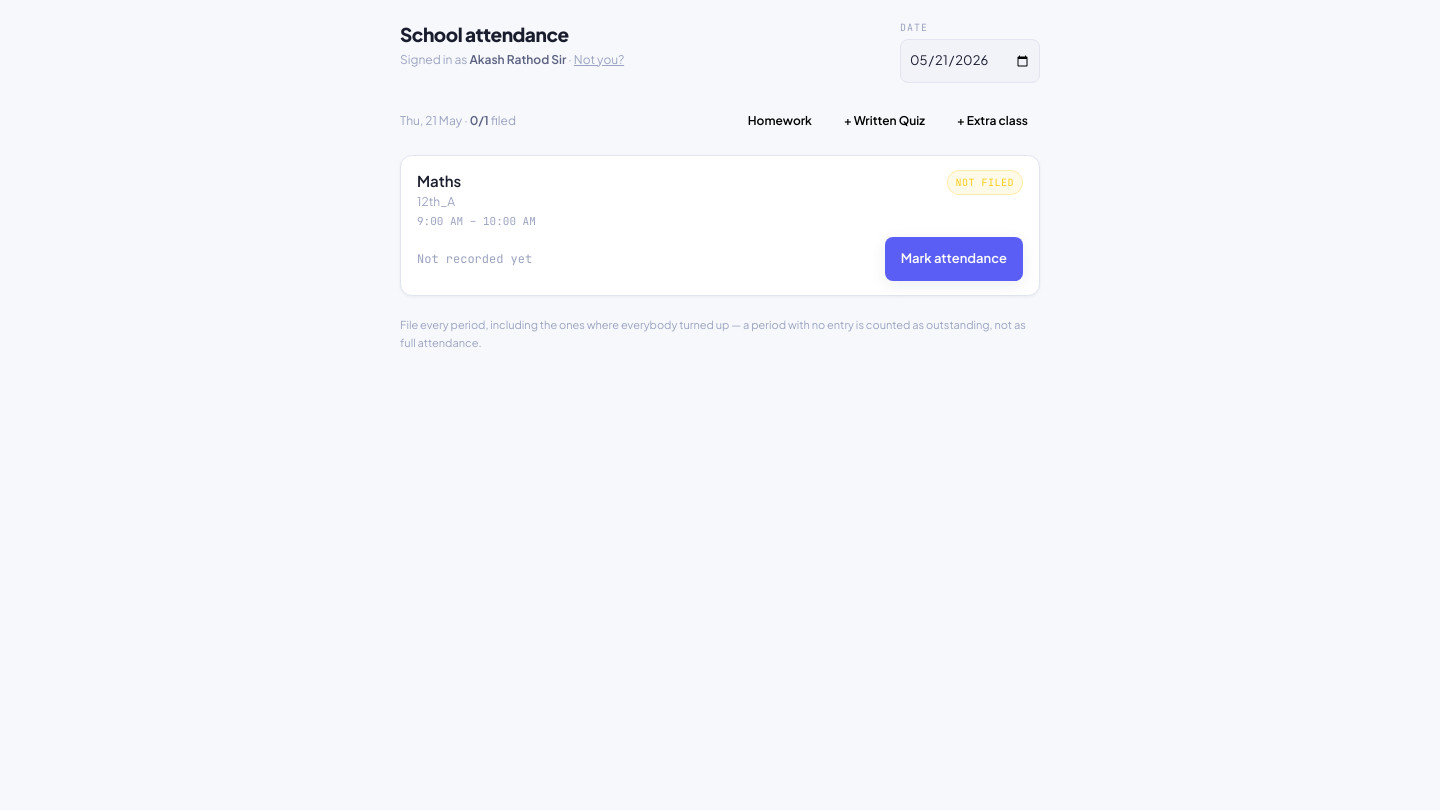
Test case: SchoolAttendancePage — extra (impromptu) classes › adds an extra-class card for a batch the teacher actually teaches
Click the button with aria-label "add an extra class". click: (992, 121)
box: top-left (945, 99), bottom-right (1040, 143)
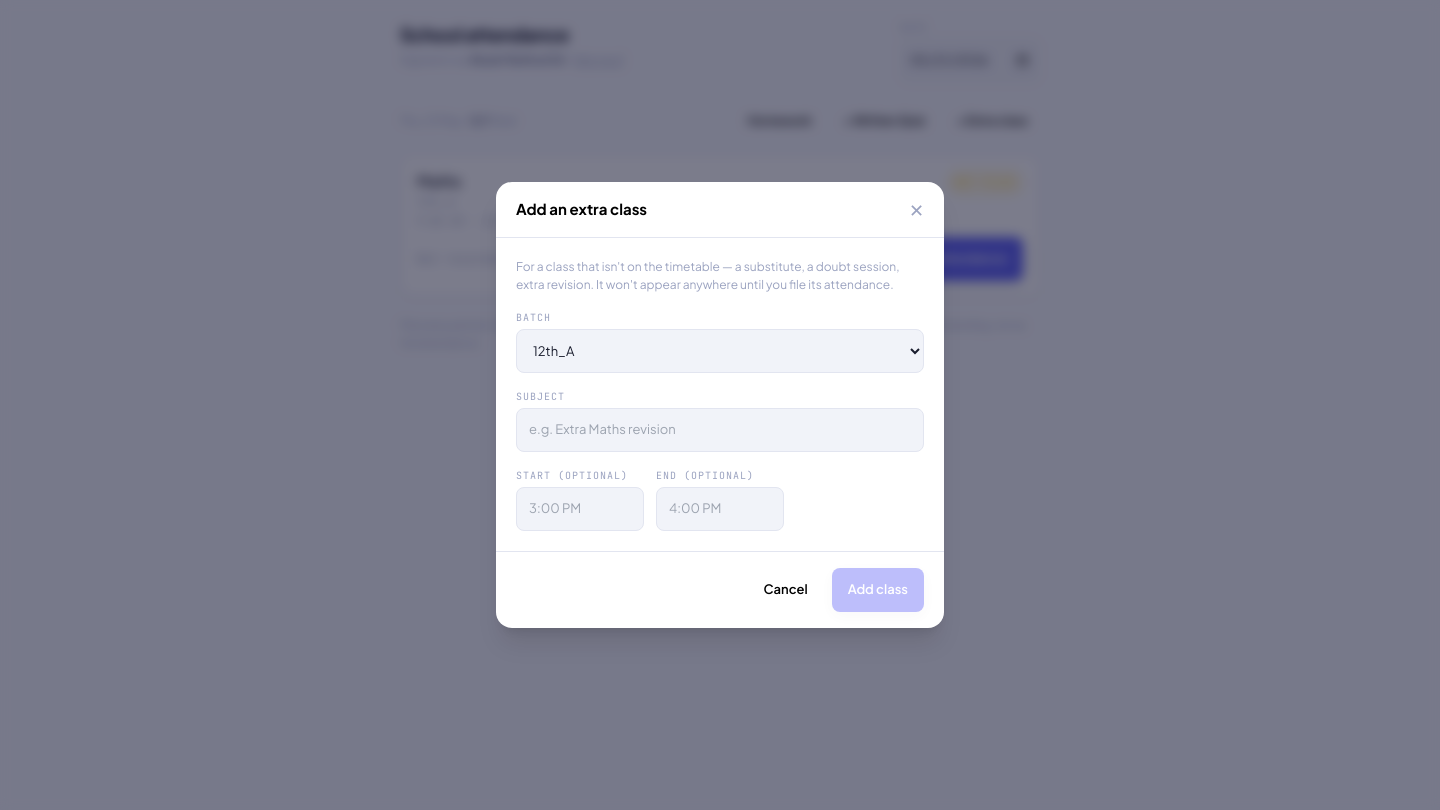
Type "Doubt session" into the field labelled "Subject". click: (720, 430)
box: top-left (516, 408), bottom-right (924, 452)
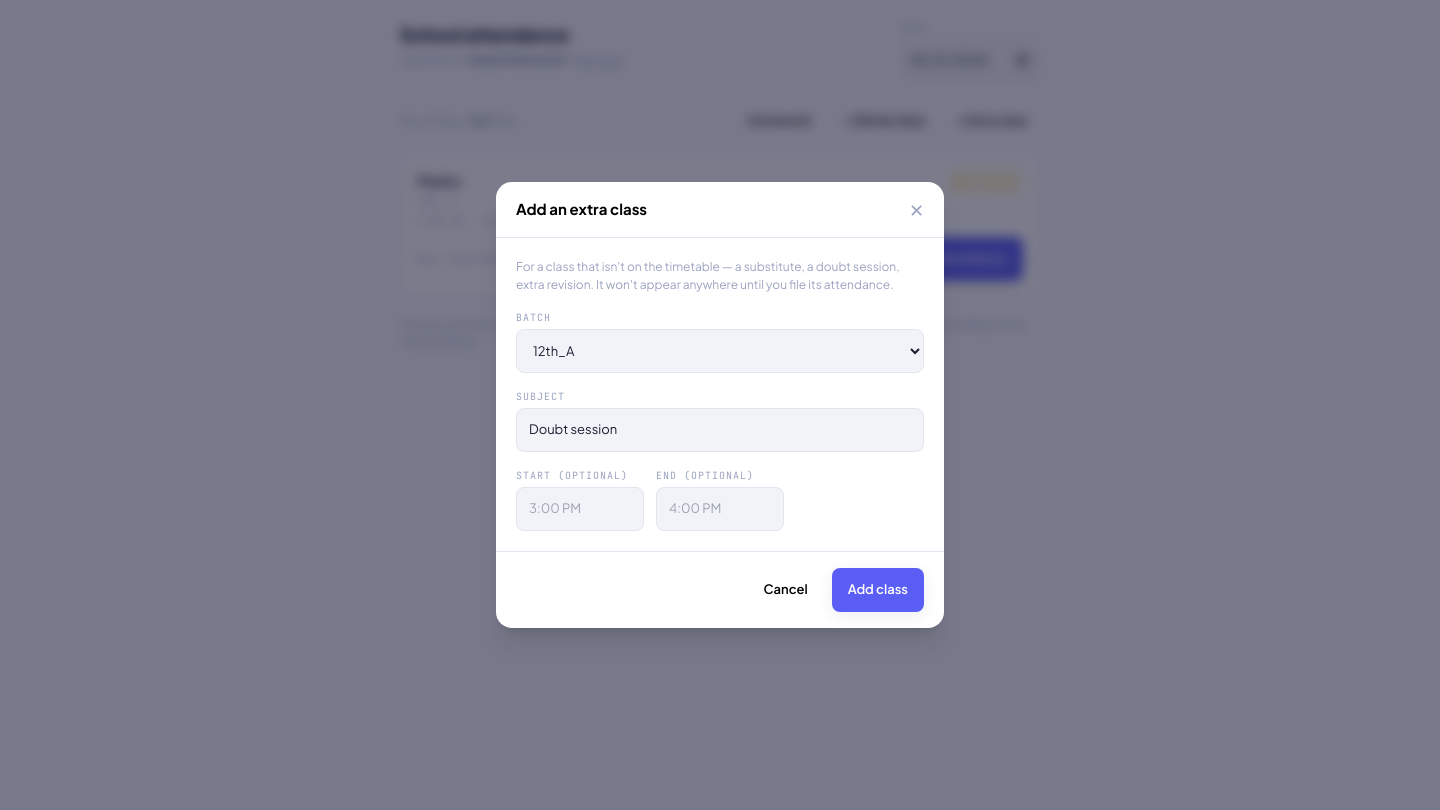
Click the button "Add class". click: (878, 590)
box: top-left (832, 568), bottom-right (924, 612)
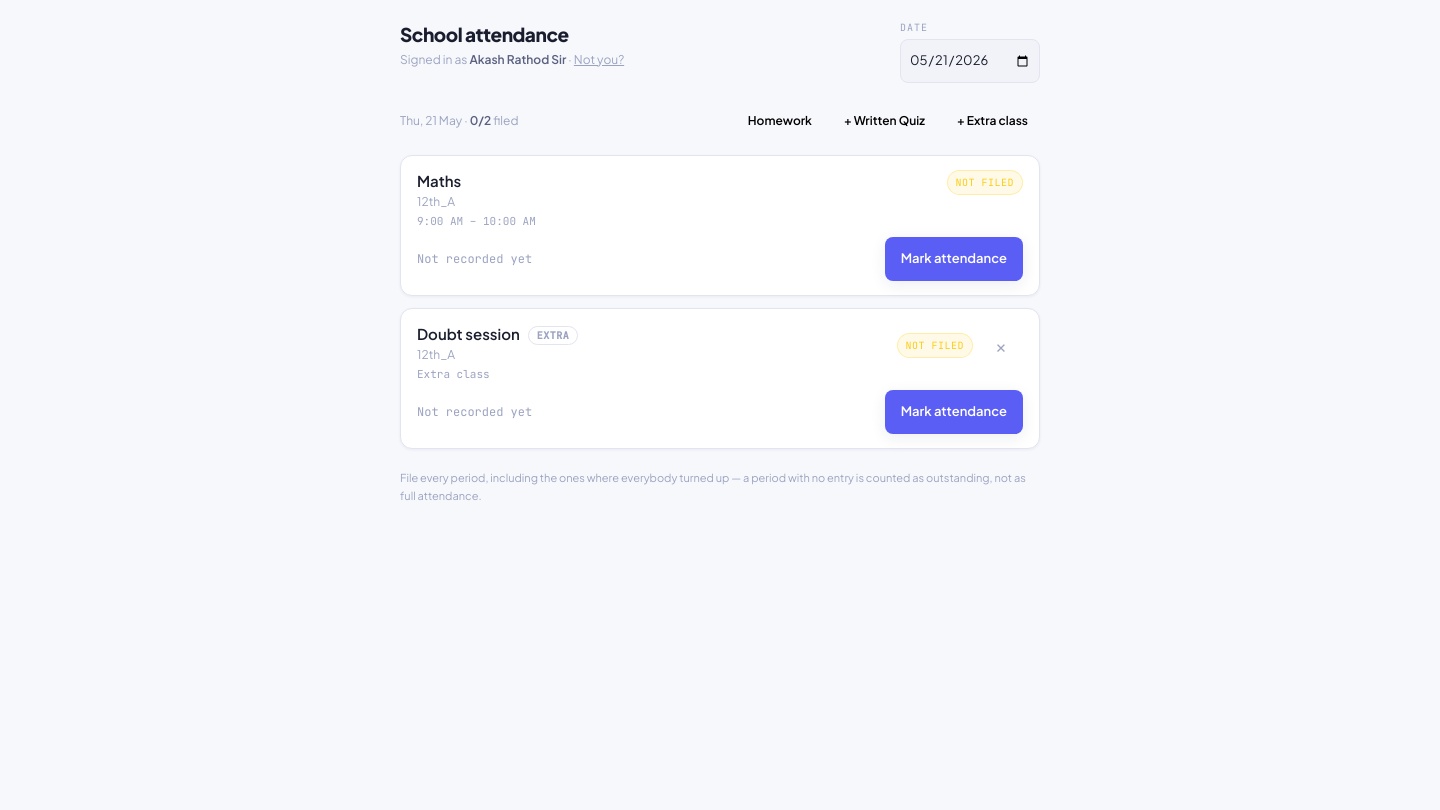
Now the text "extra" is shown, box top-left (528, 326), bottom-right (578, 345)
Now the text "Doubt session" is shown, box top-left (417, 324), bottom-right (520, 343)
